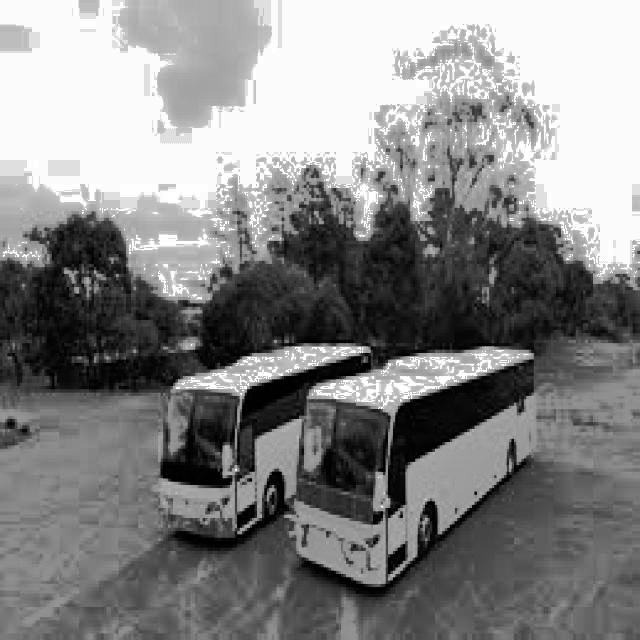Bus: (280, 323, 560, 609), (127, 330, 301, 554)
